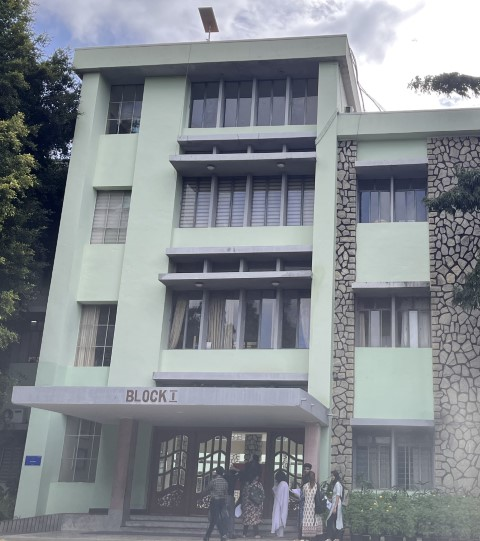Block 1: (43, 28, 480, 541)
